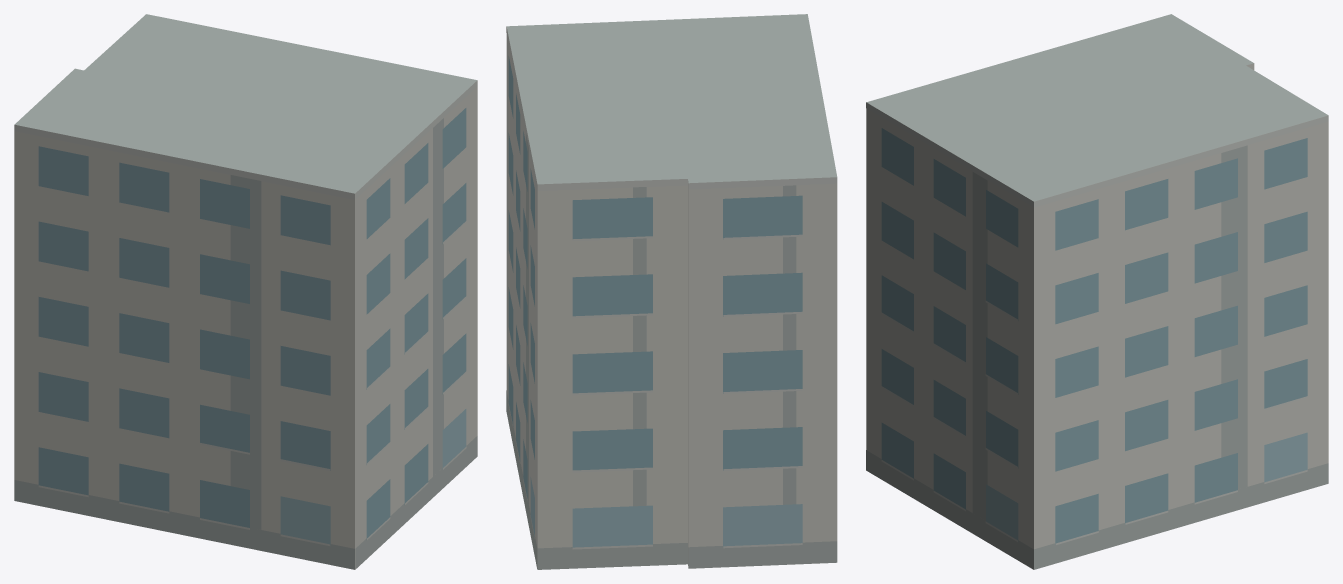
Rendered from survey-upis-32886916.glb.
The picture shows the model from 3 angles, left to right: view 1: azimuth 30°, elevation 25°; view 2: azimuth 150°, elevation 25°; view 3: azimuth 270°, elevation 25°; orthographic projection. The views are drawn at different scales.
Visible parts, largest first — view 1: survey-upis-32886916.tmp; view 2: survey-upis-32886916.tmp; view 3: survey-upis-32886916.tmp.
Part boxes in pixels (box(x1,y1,x2,y2)): survey-upis-32886916.tmp: box(14, 14, 477, 569); survey-upis-32886916.tmp: box(506, 14, 837, 569); survey-upis-32886916.tmp: box(866, 14, 1328, 569).
Bounding box in the file's own units: 15.75 × 14.4 × 16.4.
